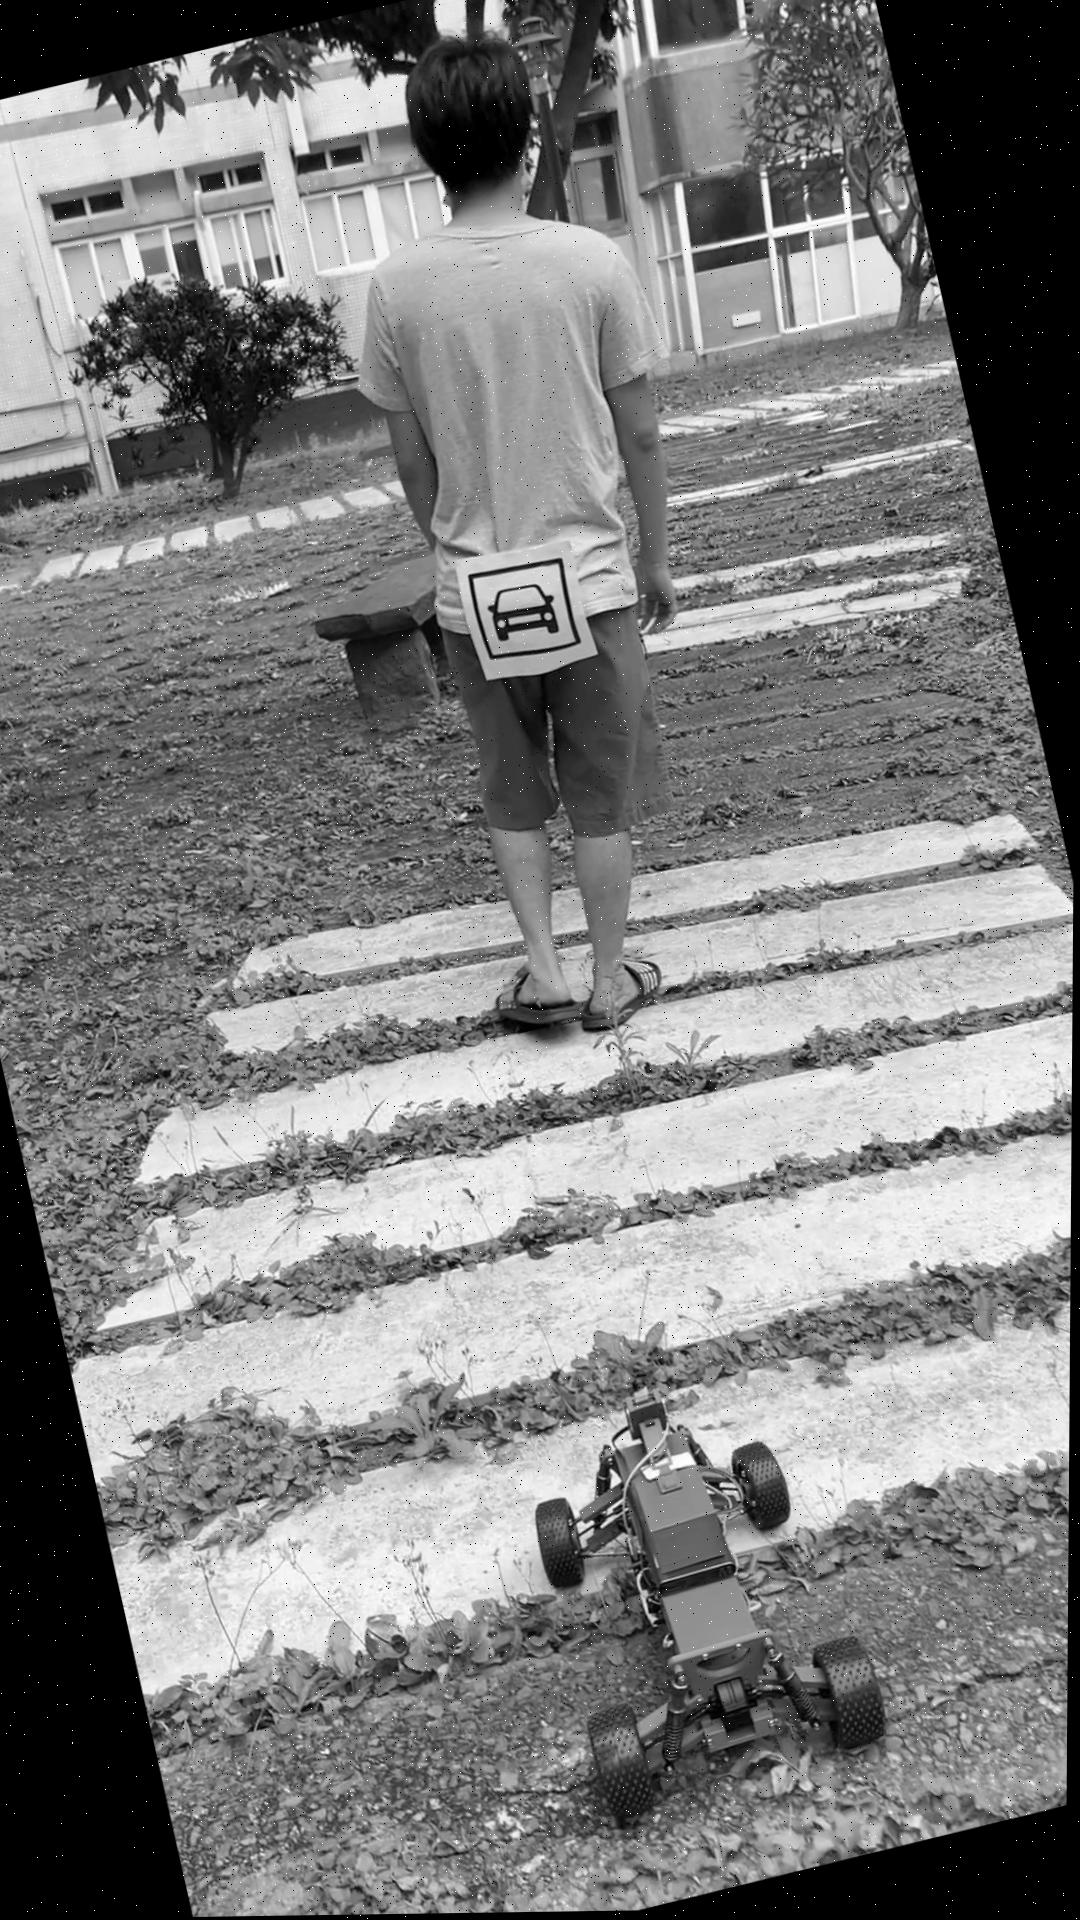car_img: (465, 551, 585, 670)
